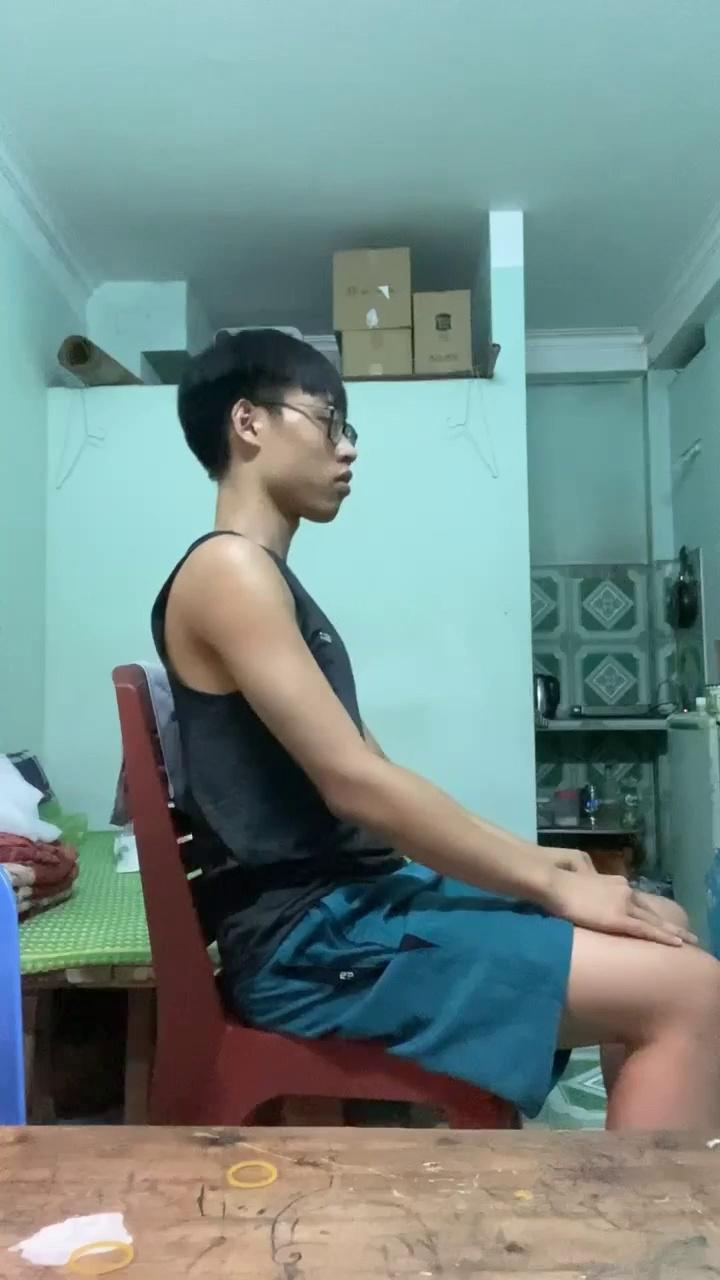GoodPosture: (152, 329, 719, 1129)
